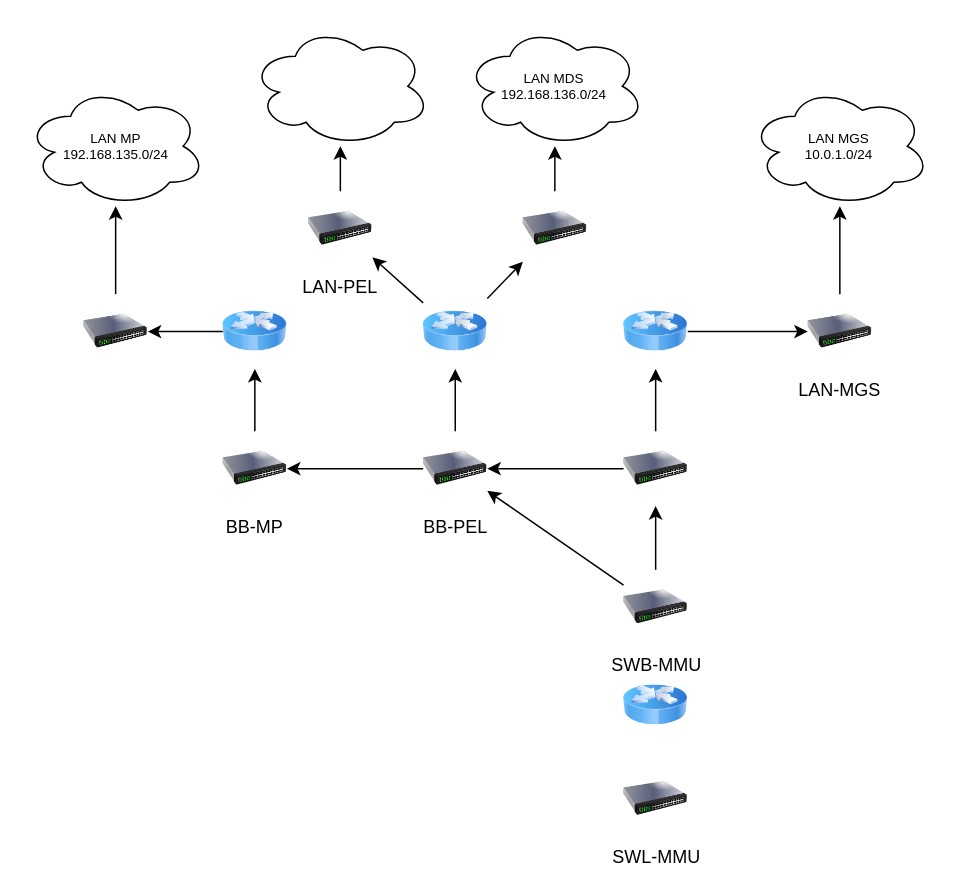
This 957x894 diagram has some shape labels left out. The shapes that lost their labels are listed below. From the top down, each one's centre as x and y in pixels, then its label:
point 339,85: LAN PELANGI 192.168.137.0/24
point 554,227: LAN-MDS
point 115,330: LAN-MP
point 655,467: BB-MGS
